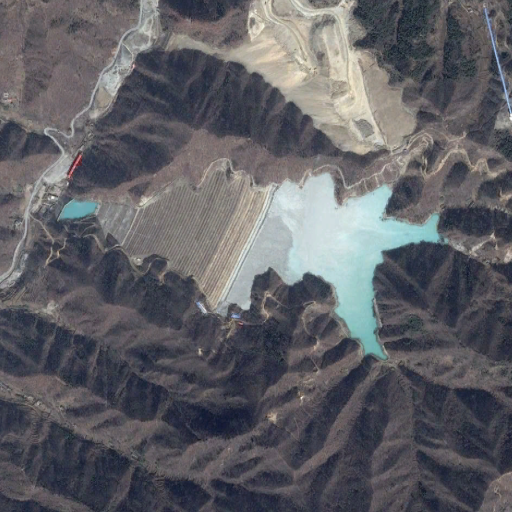tp: (97, 160, 442, 365)
